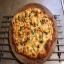pizza: (11, 8, 54, 57)
